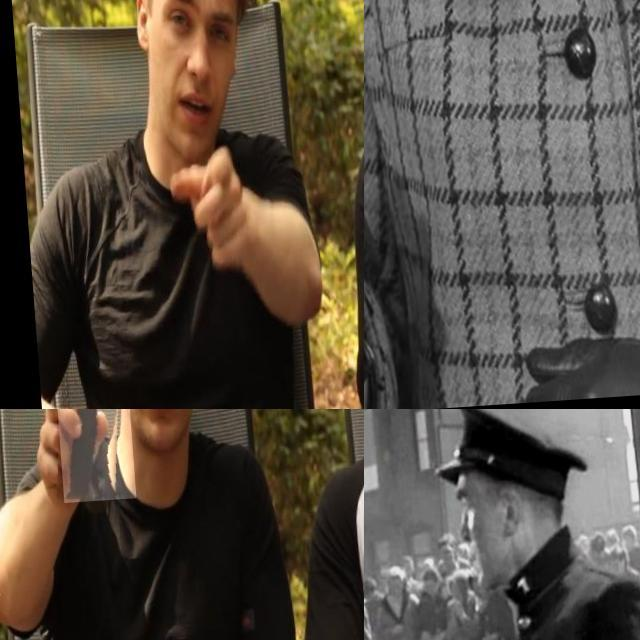-: (43, 409, 130, 543)
gun-knife-thesis - v11 Yolov5 augmented: (364, 0, 475, 343)
